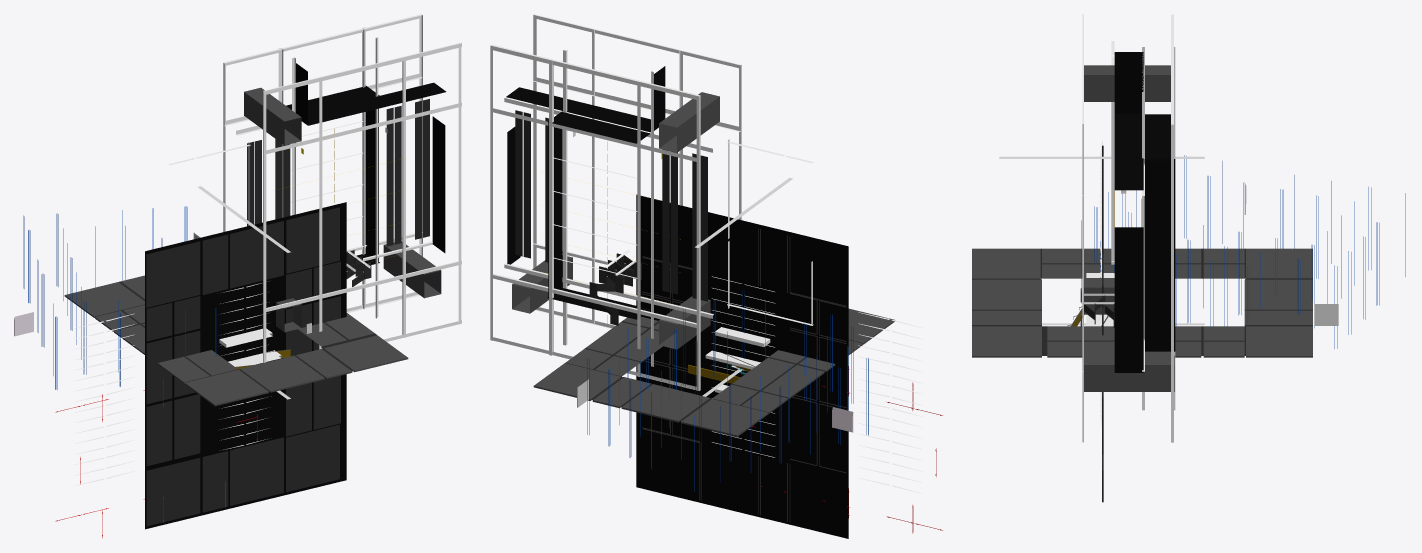
Rendered from museum_shrinked_10000_08.12.16.37.glb.
3 renders of one model, left to right at view 1: azimuth 30°, elevation 25°; view 2: azimuth 150°, elevation 25°; view 3: azimuth 270°, elevation 25°, orthographic. The views are drawn at different scales.
Parts seen in each view (by area): view 1: ShapeIndexedFaceSet.020, basement_floor, ShapeIndexedFaceSet.009, frame_structure, ShapeIndexedFaceSet.002, ShapeIndexedFaceSet, tech_rooms.001, column_sinned.000, ShapeIndexedFaceSet.004, ShapeIndexedFaceSet.017, basement_exhibition_walls, ShapeIndexedFaceSet.001; view 2: basement_floor, ShapeIndexedFaceSet.009, frame_structure, ShapeIndexedFaceSet.002, ShapeIndexedFaceSet, ShapeIndexedFaceSet.004, tech_rooms.001, column_sinned.000, ShapeIndexedFaceSet.020, ShapeIndexedFaceSet.017, ShapeIndexedFaceSet.001, basement_exhibition_walls (+2 smaller); view 3: ShapeIndexedFaceSet.009, ShapeIndexedFaceSet.002, tech_rooms.001, column_sinned.000, frame_structure, ShapeIndexedFaceSet.004, ShapeIndexedFaceSet.005, Plane.001, ShapeIndexedFaceSet.020, moving_plane_01_cycle.
Part boxes in pixels (left/top/right/bottom): ShapeIndexedFaceSet.020: left=146, top=207, right=340, bottom=526; basement_floor: left=145, top=202, right=346, bottom=529; ShapeIndexedFaceSet.009: left=64, top=275, right=408, bottom=406; frame_structure: left=223, top=14, right=461, bottom=362; ShapeIndexedFaceSet.002: left=286, top=63, right=446, bottom=264; ShapeIndexedFaceSet: left=247, top=99, right=429, bottom=246; tech_rooms.001: left=244, top=87, right=441, bottom=332; column_sinned.000: left=23, top=206, right=216, bottom=389; ShapeIndexedFaceSet.004: left=236, top=27, right=432, bottom=318; ShapeIndexedFaceSet.017: left=74, top=283, right=268, bottom=485; basement_exhibition_walls: left=219, top=328, right=281, bottom=366; ShapeIndexedFaceSet.001: left=346, top=250, right=371, bottom=286; basement_floor: left=636, top=194, right=848, bottom=538; ShapeIndexedFaceSet.009: left=533, top=308, right=894, bottom=436; frame_structure: left=490, top=14, right=741, bottom=390; ShapeIndexedFaceSet.002: left=506, top=66, right=665, bottom=319; ShapeIndexedFaceSet: left=515, top=110, right=707, bottom=301; ShapeIndexedFaceSet.004: left=504, top=50, right=713, bottom=376; tech_rooms.001: left=512, top=92, right=719, bottom=349; column_sinned.000: left=587, top=290, right=868, bottom=491; ShapeIndexedFaceSet.020: left=642, top=228, right=846, bottom=521; ShapeIndexedFaceSet.017: left=711, top=276, right=922, bottom=493; ShapeIndexedFaceSet.001: left=589, top=249, right=641, bottom=325; basement_exhibition_walls: left=705, top=327, right=770, bottom=392; ShapeIndexedFaceSet.009: left=972, top=248, right=1312, bottom=357; ShapeIndexedFaceSet.002: left=1114, top=52, right=1175, bottom=372; tech_rooms.001: left=1084, top=65, right=1174, bottom=391; column_sinned.000: left=1081, top=155, right=1405, bottom=348; frame_structure: left=1082, top=14, right=1173, bottom=442; ShapeIndexedFaceSet.004: left=1142, top=47, right=1175, bottom=410; ShapeIndexedFaceSet.005: left=1111, top=41, right=1114, bottom=264; Plane.001: left=999, top=156, right=1204, bottom=325; ShapeIndexedFaceSet.020: left=1102, top=145, right=1103, bottom=502; moving_plane_01_cycle: left=1314, top=304, right=1338, bottom=325.
Bounding box in the file's own units: 85.75 × 85.64 × 71.34.
